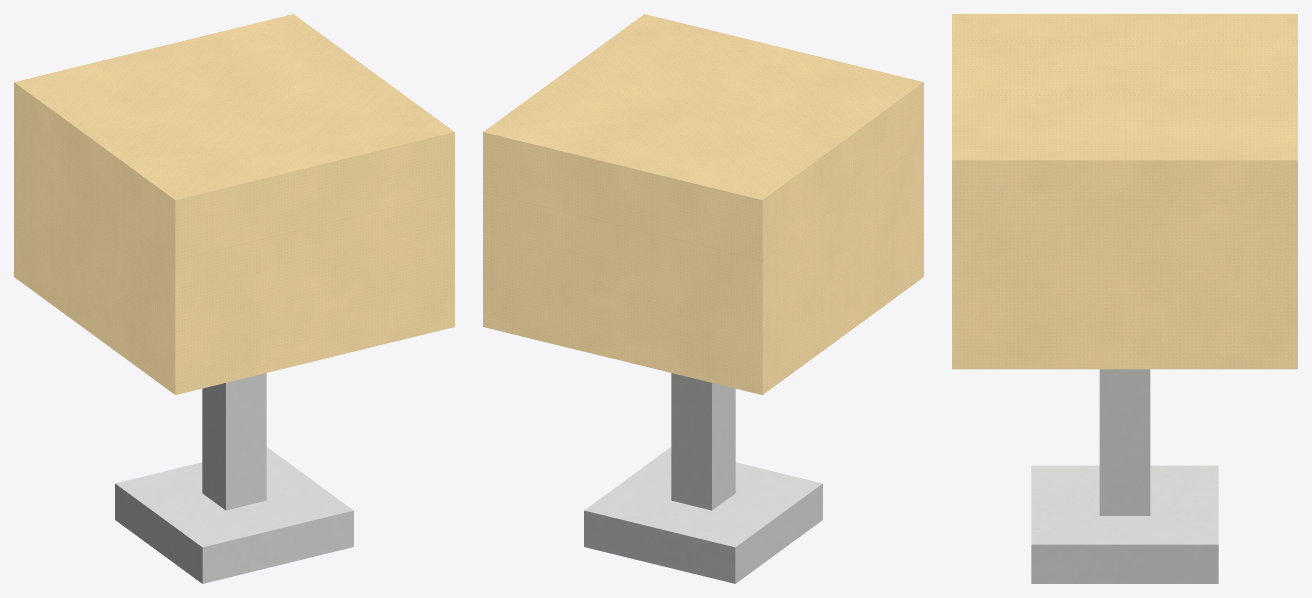
3 renders of one model, left to right at view 1: azimuth 30°, elevation 25°; view 2: azimuth 150°, elevation 25°; view 3: azimuth 270°, elevation 25°, orthographic. The views are drawn at different scales.
Parts seen in each view (by area): view 1: TableLamp_Game; view 2: TableLamp_Game; view 3: TableLamp_Game.
Part boxes in pixels (<box>): TableLamp_Game: <box>14,14,454,583</box>; TableLamp_Game: <box>483,14,923,583</box>; TableLamp_Game: <box>952,14,1297,583</box>.
Size of the model in its own units: 0.24 by 0.35 by 0.24.
2 materials, 2 textured.
